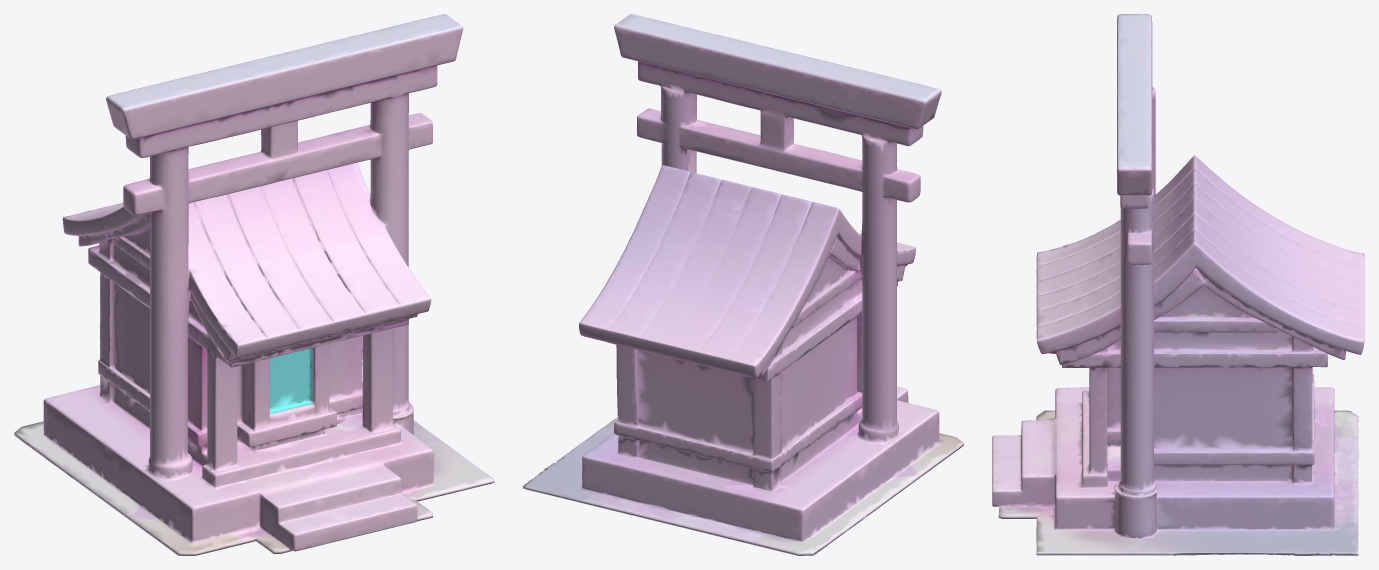
Rendered from shrine.glb.
3 views of the same model, side by side, from view 1: azimuth 30°, elevation 25°; view 2: azimuth 150°, elevation 25°; view 3: azimuth 270°, elevation 25° (orthographic). The views are drawn at different scales.
Parts seen in each view (by area): view 1: tripo_node_ab188cde-fec9-41c7-9a53-891f38cc8afd; view 2: tripo_node_ab188cde-fec9-41c7-9a53-891f38cc8afd; view 3: tripo_node_ab188cde-fec9-41c7-9a53-891f38cc8afd.
Part boxes in pixels (left/top/right/bottom): tripo_node_ab188cde-fec9-41c7-9a53-891f38cc8afd: left=14, top=14, right=494, bottom=555; tripo_node_ab188cde-fec9-41c7-9a53-891f38cc8afd: left=523, top=14, right=963, bottom=555; tripo_node_ab188cde-fec9-41c7-9a53-891f38cc8afd: left=992, top=14, right=1364, bottom=555.
Bounding box in the file's own units: 0.8459 × 0.9999 × 0.8589.
1 material, 1 textured.
